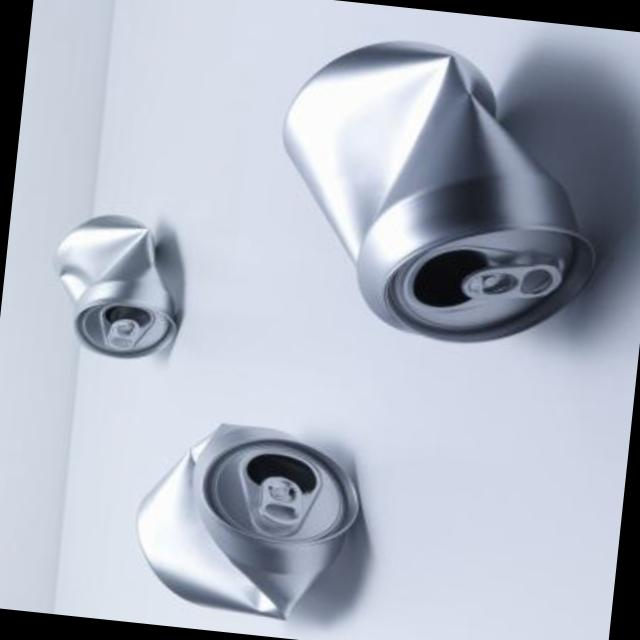metal: (279, 45, 590, 343), (133, 427, 354, 620), (51, 218, 172, 360)
